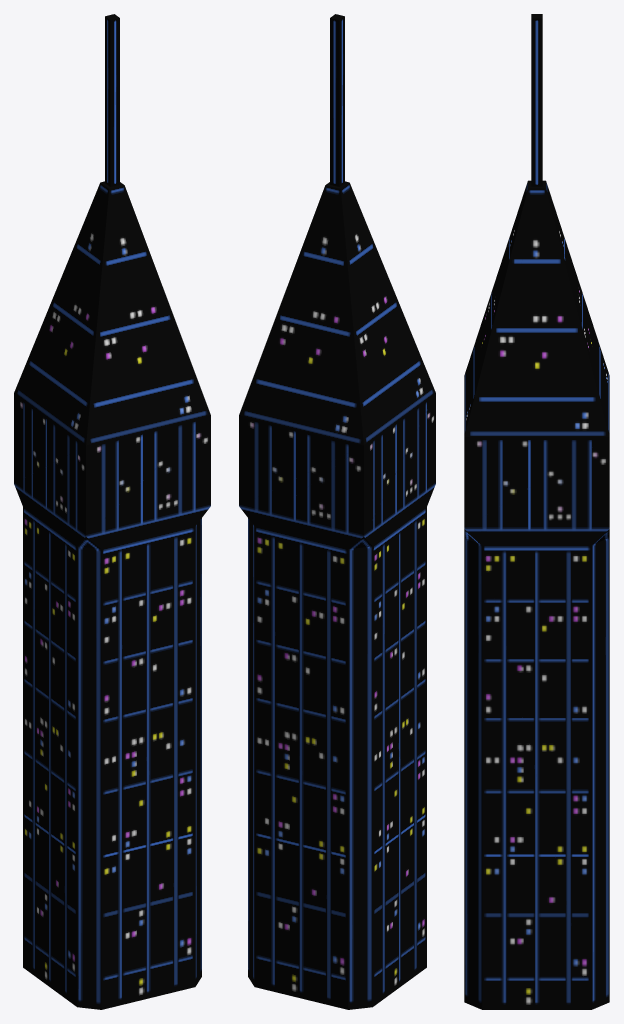
File: bldg_001.fbx
The picture shows the model from 3 angles, left to right: view 1: azimuth 30°, elevation 25°; view 2: azimuth 150°, elevation 25°; view 3: azimuth 270°, elevation 25°; orthographic projection.
Visible parts, largest first — view 1: bldg_001; view 2: bldg_001; view 3: bldg_001.
Boxes of the visible parts, bbox=[...] form: bldg_001: bbox=[14, 14, 210, 1009]; bldg_001: bbox=[239, 14, 435, 1009]; bldg_001: bbox=[464, 14, 609, 1009].
Bounding box in the file's own units: 200 × 1463 × 200.
Materials: 1 (1 with a texture image).
